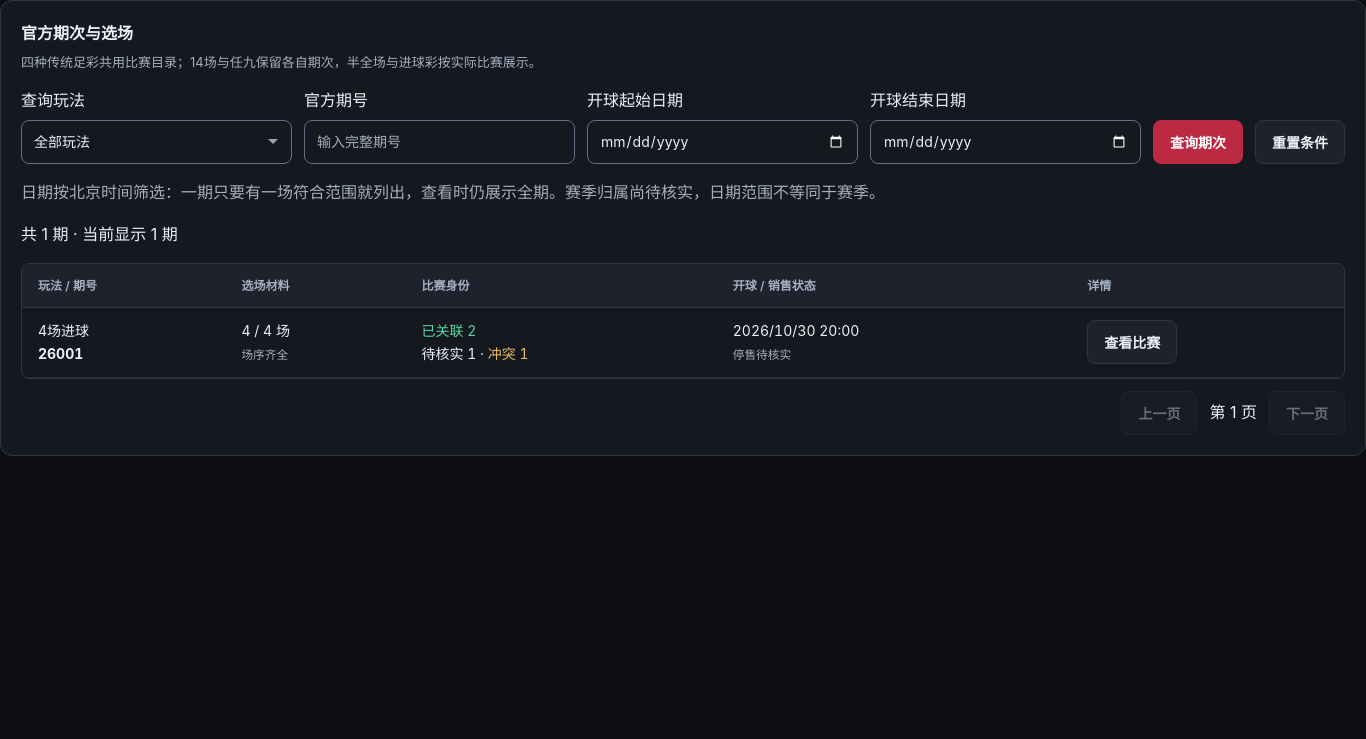
Test: PoolFixtureCatalog › 详情失败保留期次列表供重试，反向日期不发送请求
Click the button with aria-label "查看4场进球第26001期": point(1132, 342) [1087,320,1177,364]
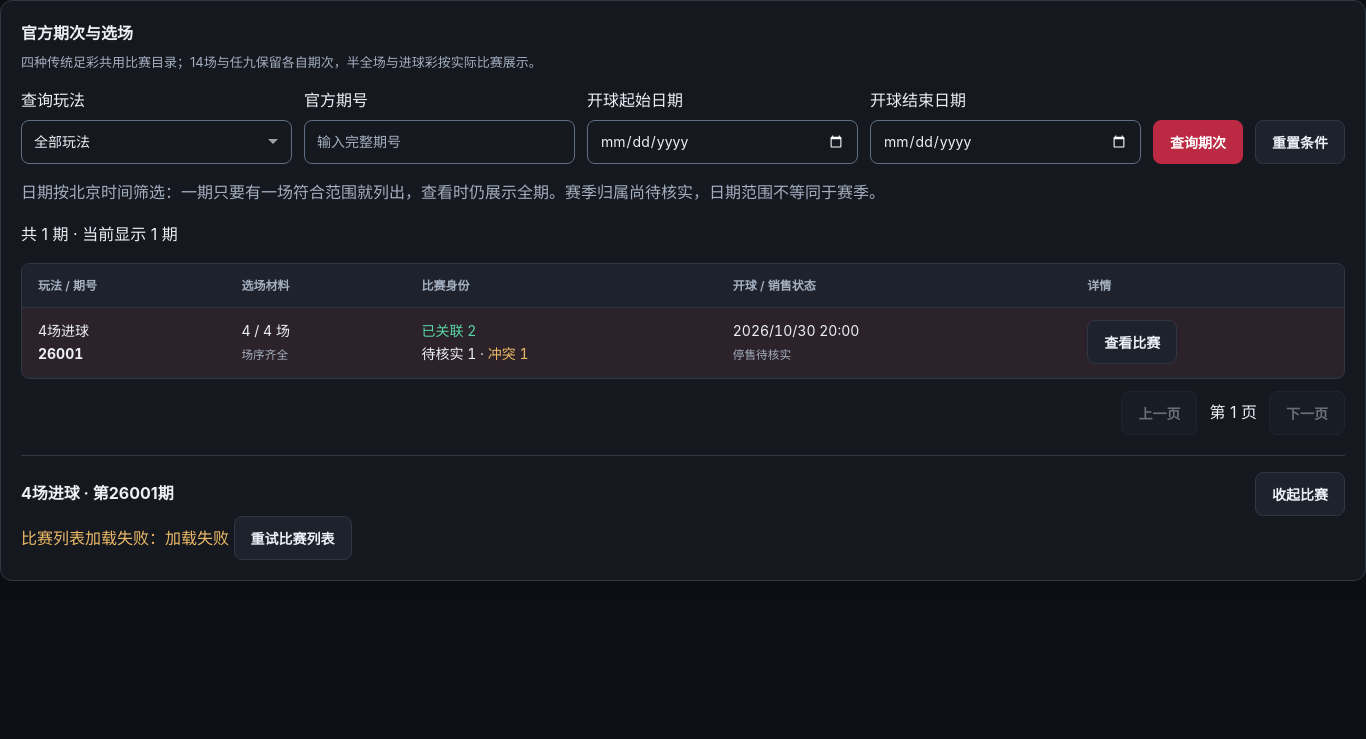
Check: the message "比赛列表加载失败：加载失败 重试比赛列表" is shown, box [21,516,352,560]
Click the button "重试比赛列表": point(292, 538) [234,516,352,560]
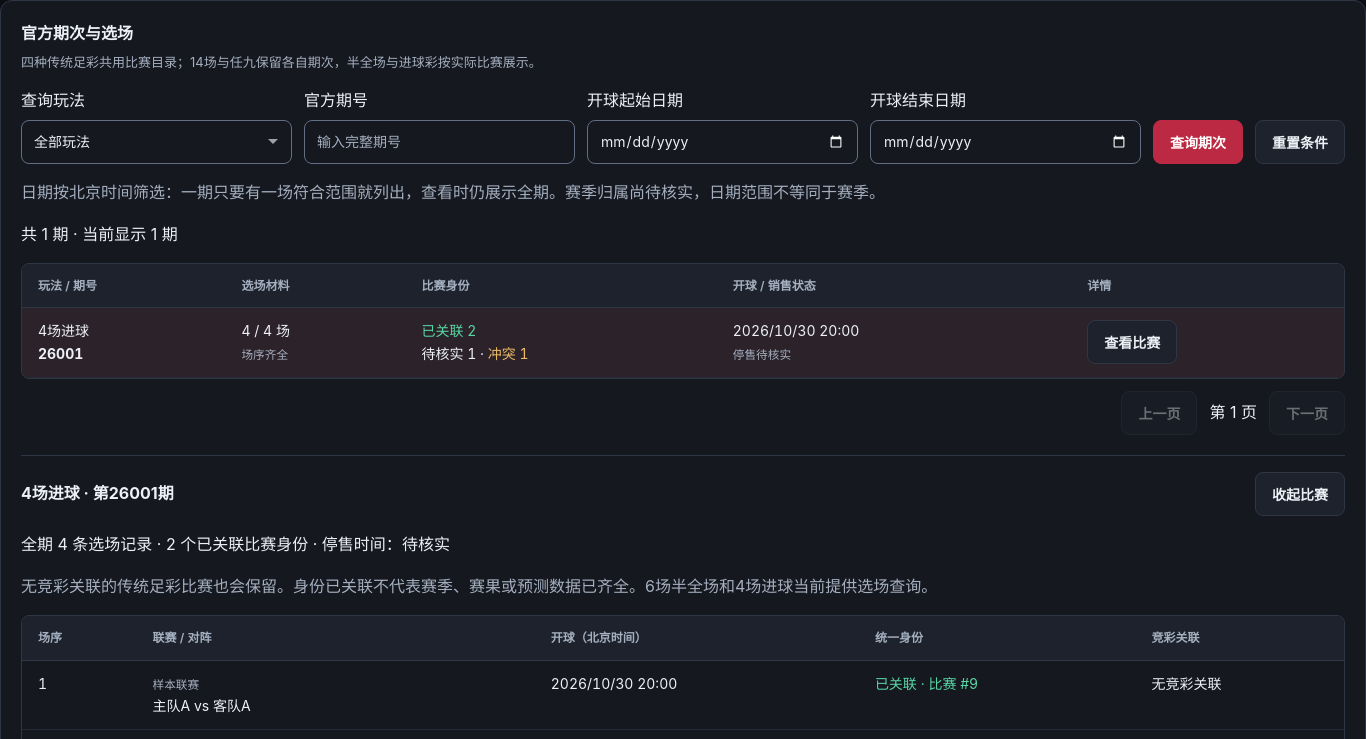
Check: the text "主队A vs 客队A" is shown, box [136,660,535,730]
In the date field labelled "开球起始日期": point(722, 142) [587,120,858,164], type "2026-11-01"
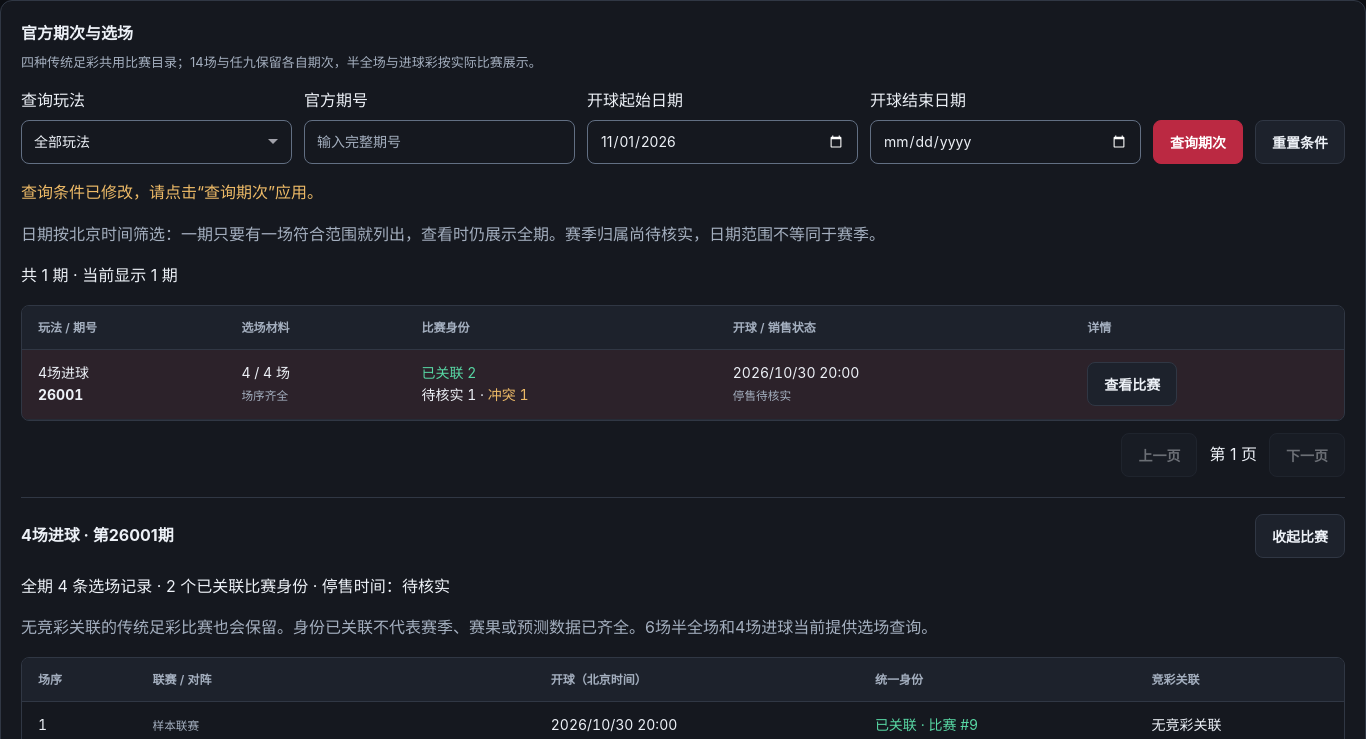
In the date field labelled "开球结束日期": point(1006, 142) [870,120,1141,164], type "2026-10-30"
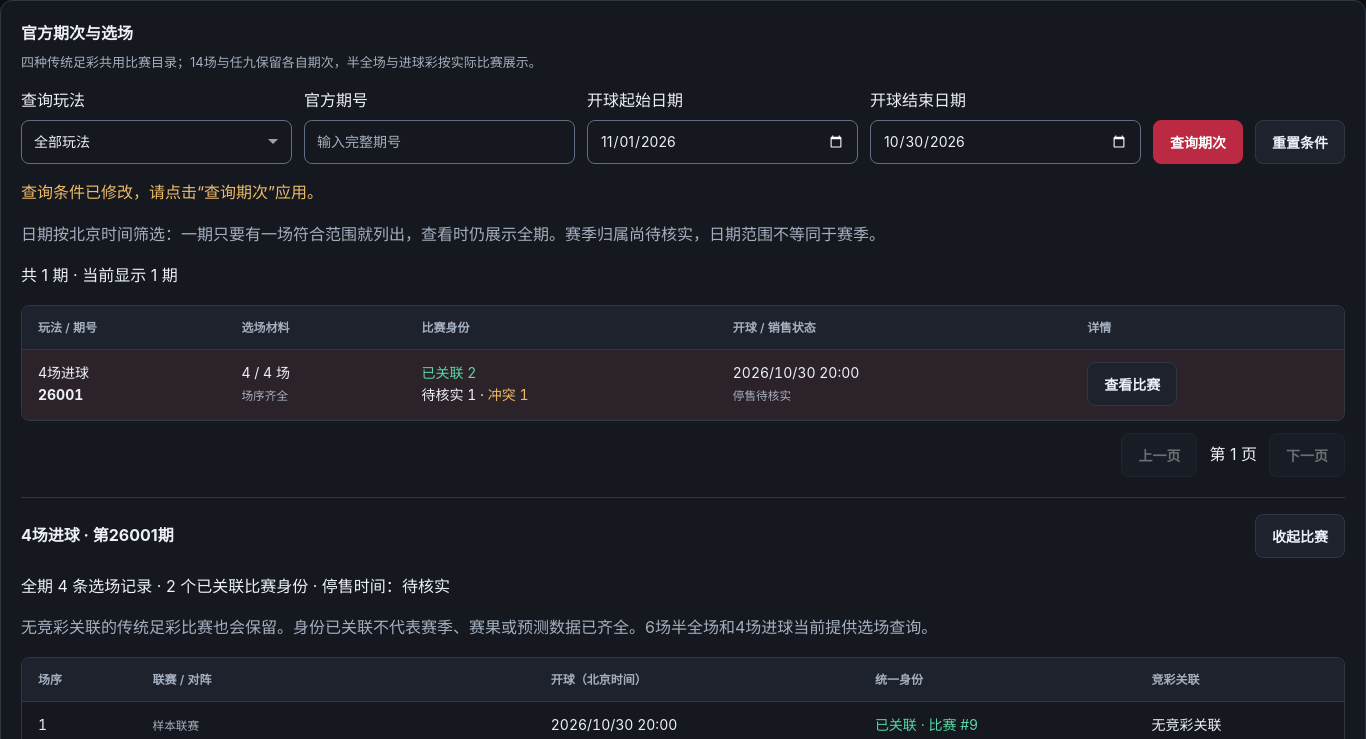
Click the button "查询期次": point(1198, 142) [1153,120,1243,164]
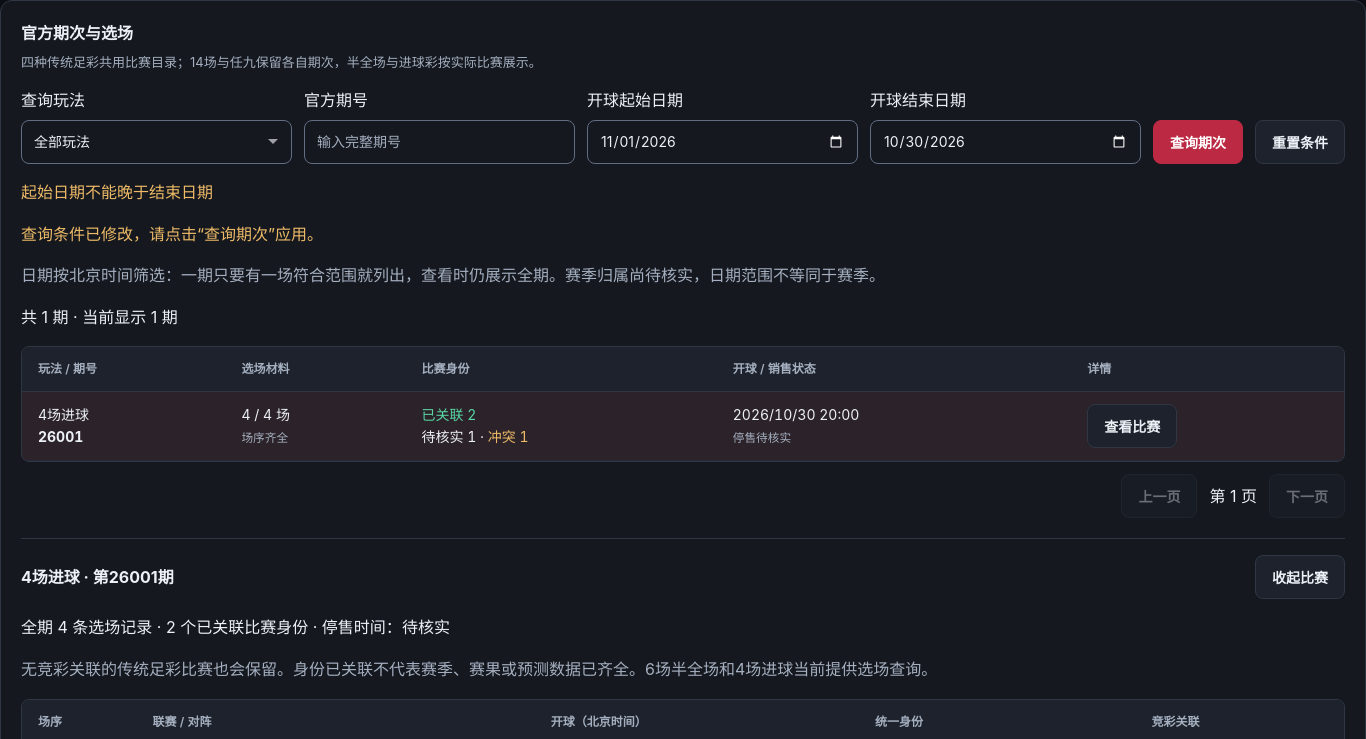
Check: the message "起始日期不能晚于结束日期" is shown, box [21,182,213,202]
